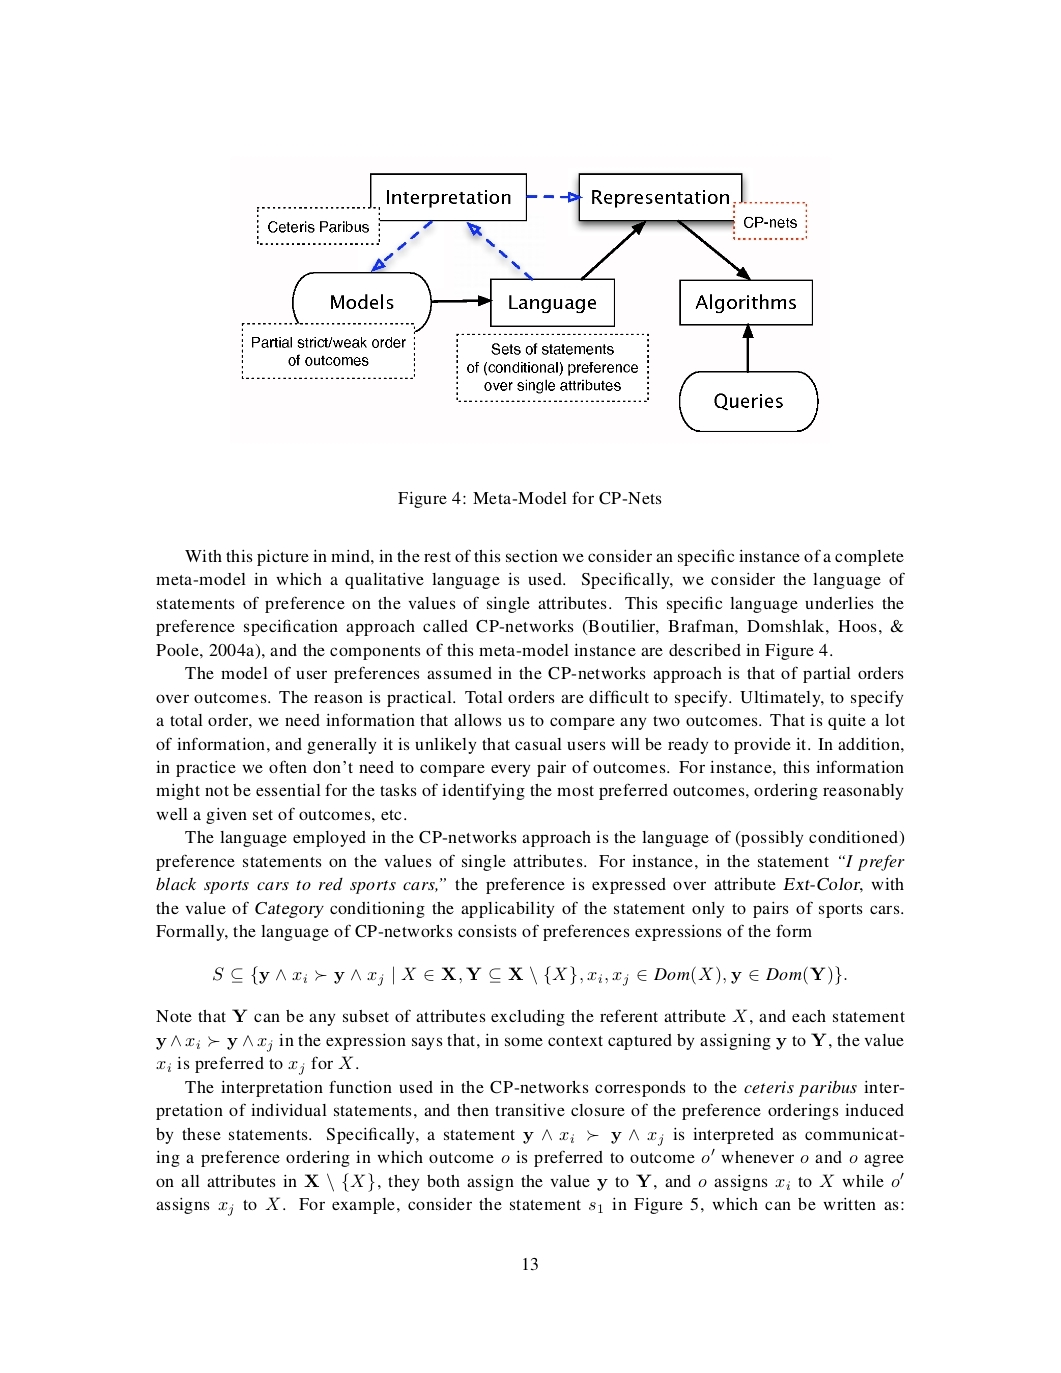figure: (241, 172, 818, 432)
formula: (213, 965, 846, 986)
